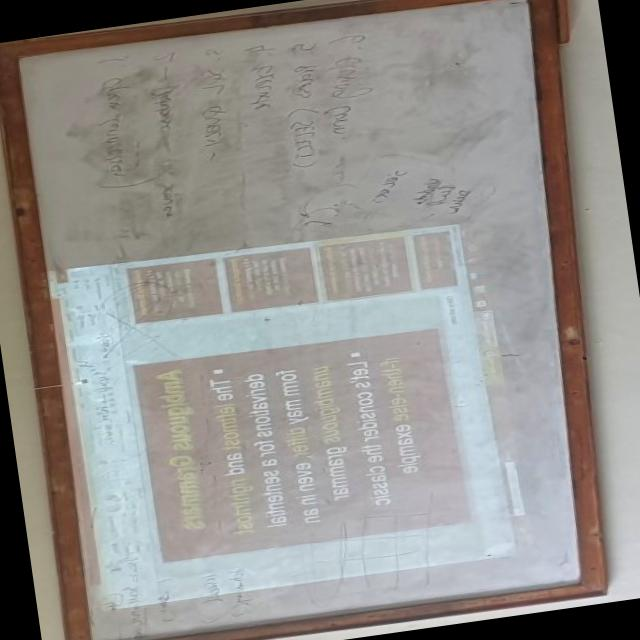Slide: (42, 219, 538, 610)
White-board: (0, 0, 595, 640)
